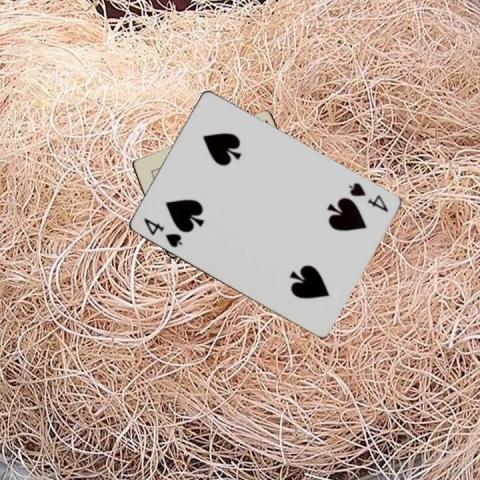4s: (345, 179, 389, 214), (140, 214, 184, 248)
